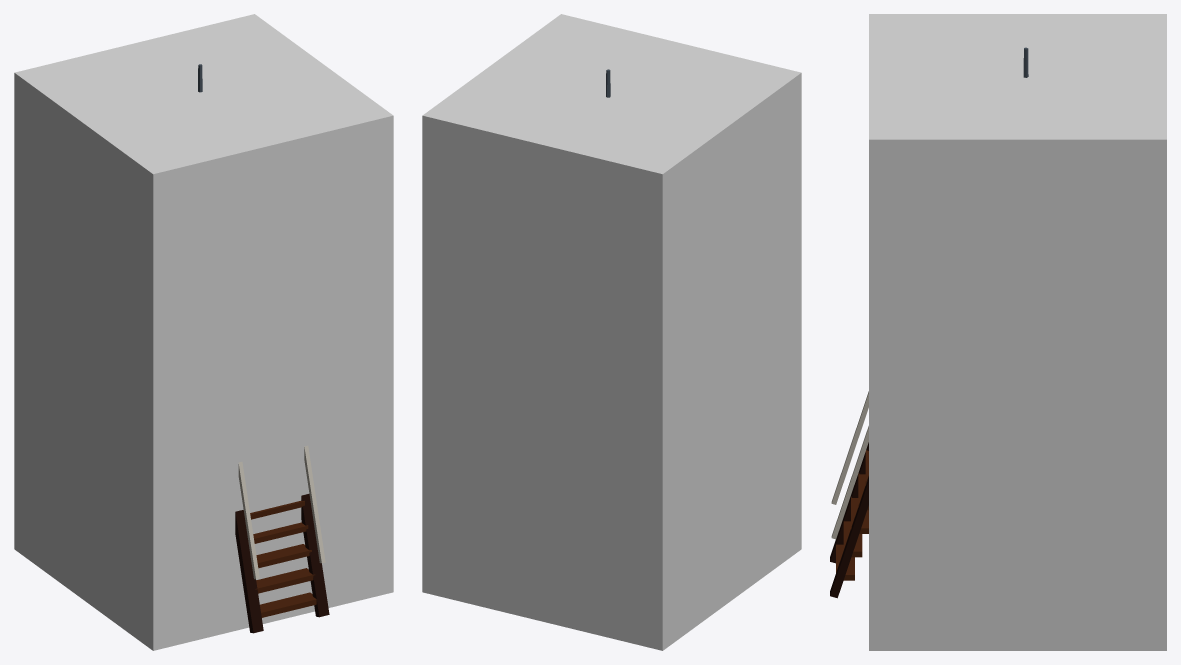
File: C05_lifeguard_tower.glb
The picture shows the model from 3 angles, left to right: view 1: azimuth 30°, elevation 25°; view 2: azimuth 150°, elevation 25°; view 3: azimuth 270°, elevation 25°; orthographic projection. The views are drawn at different scales.
Visible parts, largest first — view 1: COL_Main, LOD0; view 2: COL_Main; view 3: COL_Main, LOD0.
Part boxes in pixels (box(x1,y1,x2,y2)): COL_Main: box(14, 14, 393, 650); LOD0: box(198, 64, 329, 633); COL_Main: box(422, 14, 801, 650); COL_Main: box(869, 14, 1166, 650); LOD0: box(830, 47, 1028, 598).
Size of what is drawn, in the model's own units: 3.8 by 7.6 by 4.3.
